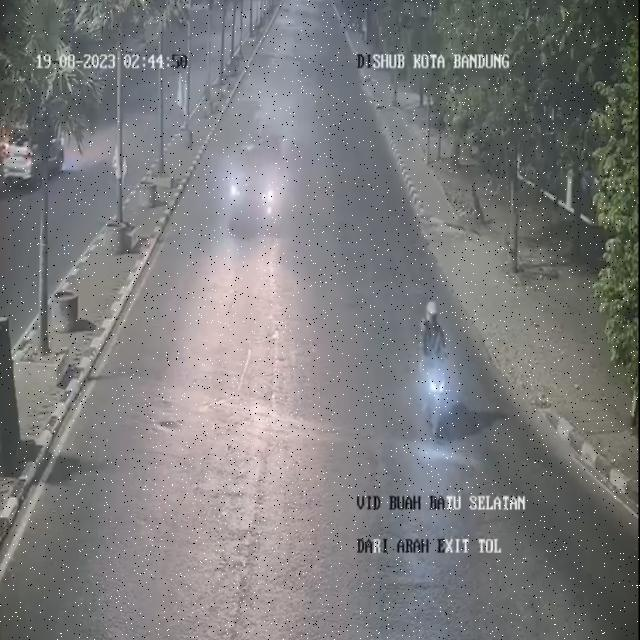cars: (224, 130, 293, 238)
motorcycle: (411, 291, 458, 437)
